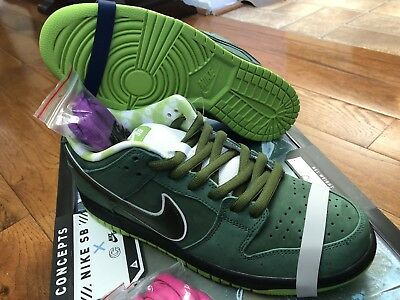Nike SB Dunk Green Lobster: (47, 87, 381, 297)
